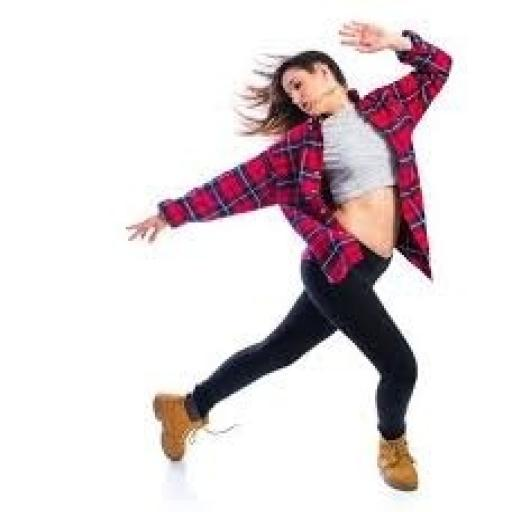dancing: (121, 14, 456, 496)
